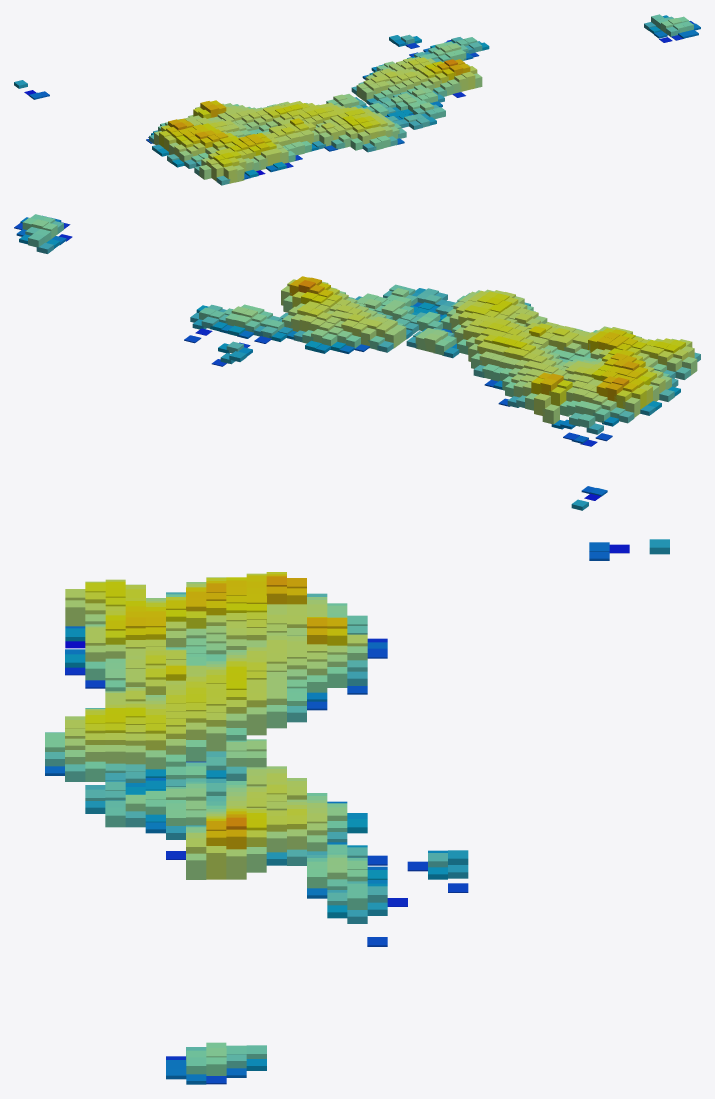
Rendered from population.glb.
The picture shows the model from 3 angles, top to bottom: view 1: azimuth 30°, elevation 25°; view 2: azimuth 150°, elevation 25°; view 3: azimuth 270°, elevation 25°; orthographic projection. The views are drawn at different scales.
Parts seen in each view (by area): view 1: population; view 2: population; view 3: population.
Part boxes in pixels (<box>): population: <box>14,14,700,185</box>; population: <box>14,214,700,510</box>; population: <box>45,539,669,1084</box>.
Bounding box in the file's own units: 6464 × 417 × 3091.
